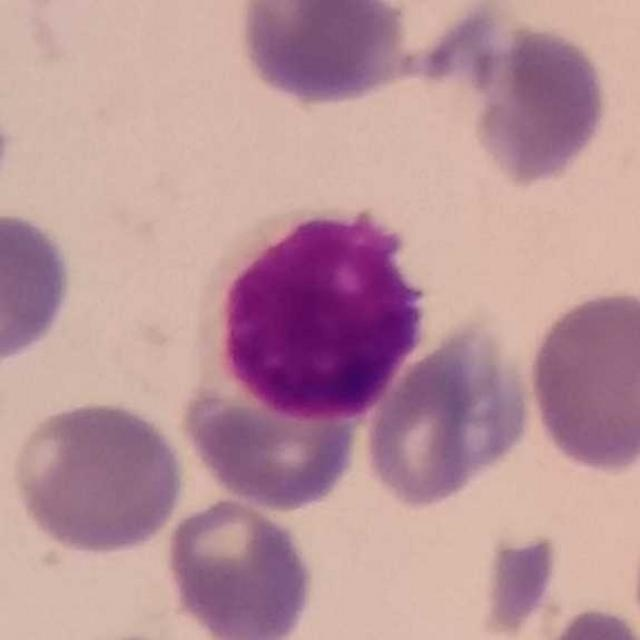Lymphocyte: (208, 203, 436, 426)
RBC: (358, 316, 538, 514), (438, 8, 614, 190), (176, 350, 367, 514), (7, 395, 190, 558), (162, 494, 318, 640), (522, 284, 640, 477), (233, 0, 413, 110), (0, 206, 77, 374), (474, 527, 563, 639), (474, 529, 563, 639), (526, 603, 640, 640)
